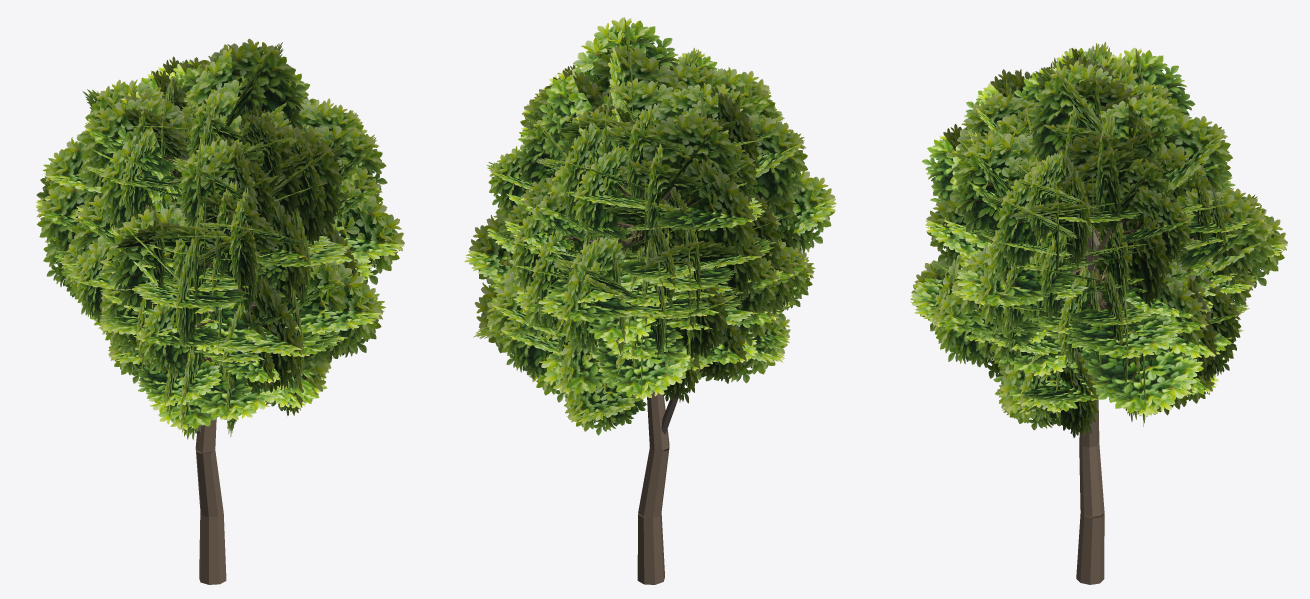
The model's file is category_mesh_tree_2.glb.
3 views of the same model, side by side, from view 1: azimuth 30°, elevation 25°; view 2: azimuth 150°, elevation 25°; view 3: azimuth 270°, elevation 25° (orthographic).
Visible parts, largest first — view 1: category_mesh_tree_2; view 2: category_mesh_tree_2; view 3: category_mesh_tree_2.
Part boxes in pixels (box(x1,y1,x2,y2)): category_mesh_tree_2: box(36, 38, 404, 584); category_mesh_tree_2: box(464, 17, 836, 584); category_mesh_tree_2: box(910, 42, 1287, 584).
Size of the model in its own units: 12.11 by 19.63 by 13.35.
1 material, 1 textured.
